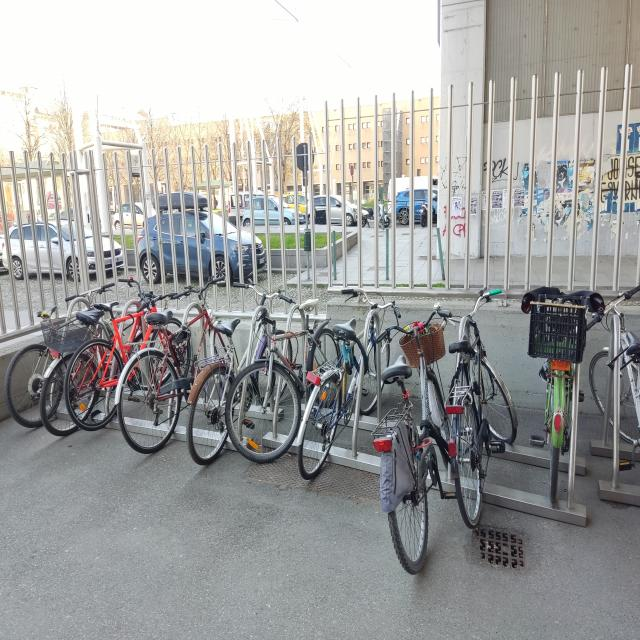Bicycle: (382, 270, 472, 583), (306, 266, 418, 496), (118, 274, 238, 472), (233, 280, 346, 476), (188, 272, 298, 469), (448, 294, 527, 541), (9, 242, 120, 402), (72, 266, 170, 437), (525, 281, 579, 544), (46, 274, 118, 448), (602, 272, 640, 477)
